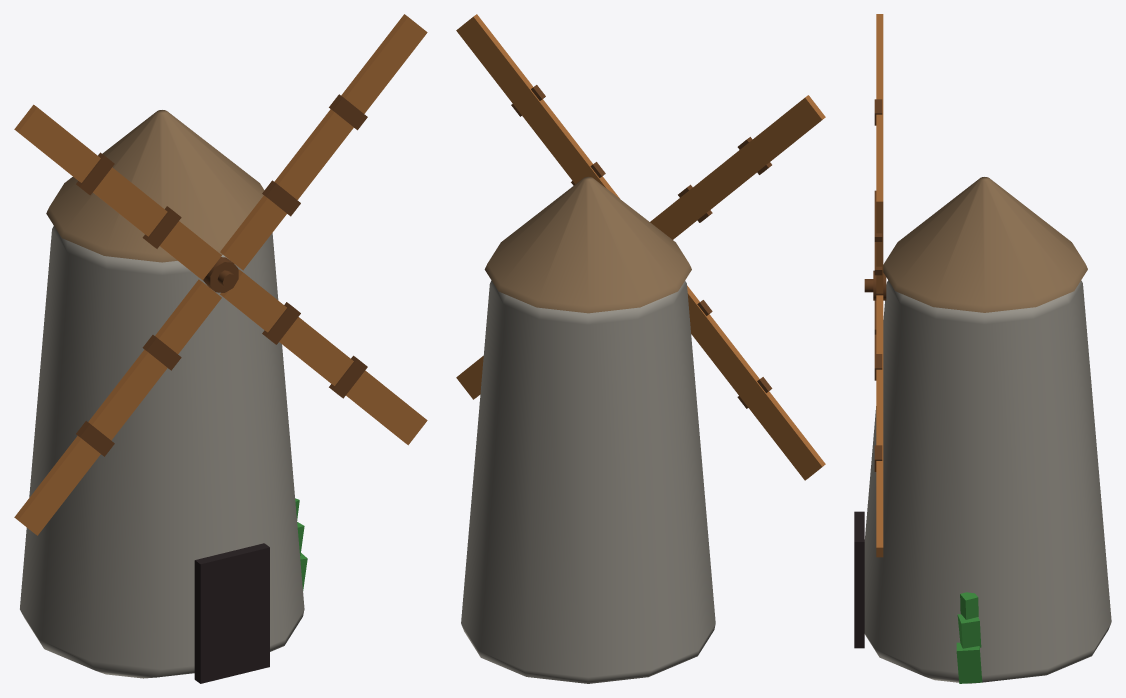
The model's file is Buildings__windmill.glb.
3 views of the same model, side by side, from view 1: azimuth 30°, elevation 25°; view 2: azimuth 150°, elevation 25°; view 3: azimuth 270°, elevation 25° (orthographic). The views are drawn at different scales.
Visible parts, largest first — view 1: windmill_mesh; view 2: windmill_mesh; view 3: windmill_mesh.
Part boxes in pixels (<box>): windmill_mesh: <box>14,14,427,683</box>; windmill_mesh: <box>456,14,825,683</box>; windmill_mesh: <box>854,14,1111,683</box>.
Size of the model in its own units: 1.65 by 2.32 by 1.01.
